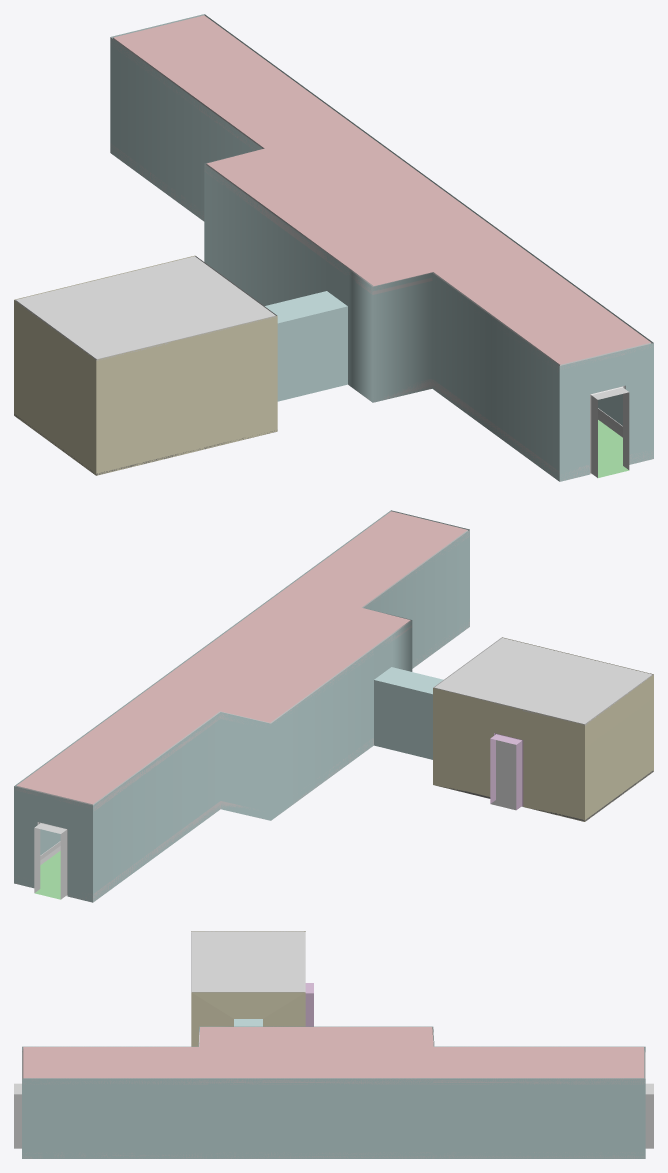
File: Hall_Long_Revised 1.fbx
3 views of the same model, one above another, from view 1: azimuth 30°, elevation 25°; view 2: azimuth 150°, elevation 25°; view 3: azimuth 270°, elevation 25° (orthographic). The views are drawn at different scales.
Parts seen in each view (by area): view 1: Hall_Long; view 2: Hall_Long; view 3: Hall_Long.
Part boxes in pixels (x1=…): Hall_Long: x1=14, y1=14, x2=653, y2=481; Hall_Long: x1=14, y1=510, x2=653, y2=902; Hall_Long: x1=14, y1=931, x2=653, y2=1158.
Bounding box in the file's own units: 1196 × 304 × 2193.
